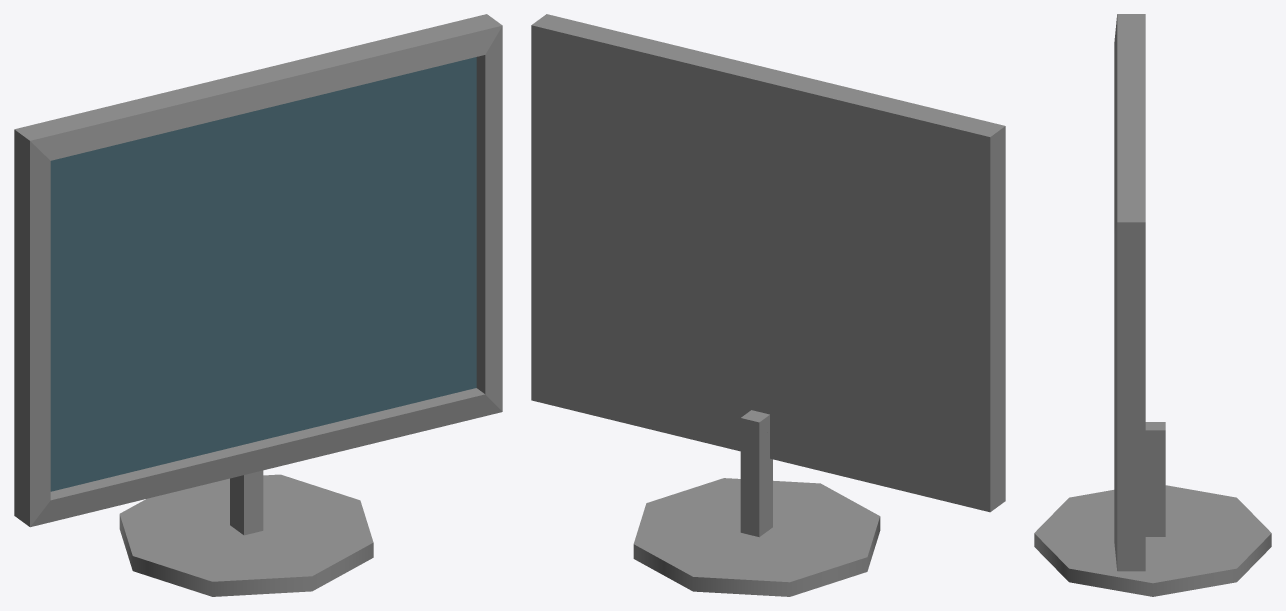
File: Monitor.FBX
3 renders of one model, left to right at view 1: azimuth 30°, elevation 25°; view 2: azimuth 150°, elevation 25°; view 3: azimuth 270°, elevation 25°, orthographic. The views are drawn at different scales.
Parts seen in each view (by area): view 1: MonitorCasa; view 2: MonitorCasa; view 3: MonitorCasa.
Boxes of the visible parts, x1,y1,x2,y2 form: MonitorCasa: (14, 14, 502, 596); MonitorCasa: (531, 14, 1005, 596); MonitorCasa: (1034, 14, 1271, 596).
Bounding box in the file's own units: 1.64 × 1.57 × 0.7892.
